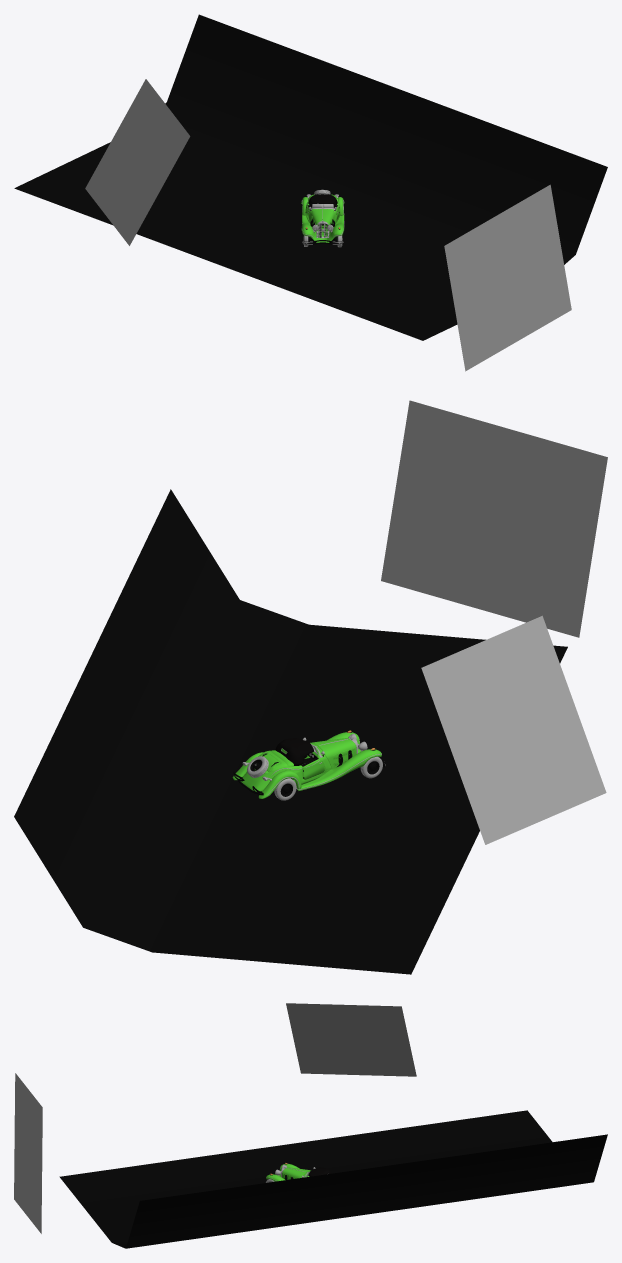
Rendered from Roadster.obj.
The picture shows the model from 3 angles, top to bottom: view 1: azimuth 30°, elevation 25°; view 2: azimuth 150°, elevation 25°; view 3: azimuth 270°, elevation 25°; orthographic projection. The views are drawn at different scales.
Parts seen in each view (by area): view 1: Plane.001, Plane.003, Plane.004_Plane.009, Circle, Sphere; view 2: Plane.001, Plane.003, Plane.004_Plane.009, Circle, Sphere; view 3: Plane.001, Plane.004_Plane.009, Plane.003.
Part boxes in pixels (<box>): Plane.001: <box>14,14,607,340</box>; Plane.003: <box>444,184,571,371</box>; Plane.004_Plane.009: <box>85,79,190,245</box>; Circle: <box>301,194,344,235</box>; Sphere: <box>301,215,344,242</box>; Plane.001: <box>14,489,567,974</box>; Plane.003: <box>381,400,607,637</box>; Plane.004_Plane.009: <box>421,615,606,844</box>; Circle: <box>232,738,356,798</box>; Sphere: <box>298,732,381,790</box>; Plane.001: <box>59,1110,607,1248</box>; Plane.004_Plane.009: <box>286,1003,416,1076</box>; Plane.003: <box>14,1073,42,1233</box>.
Bounding box in the file's own units: 88.53 × 35.15 × 129.
